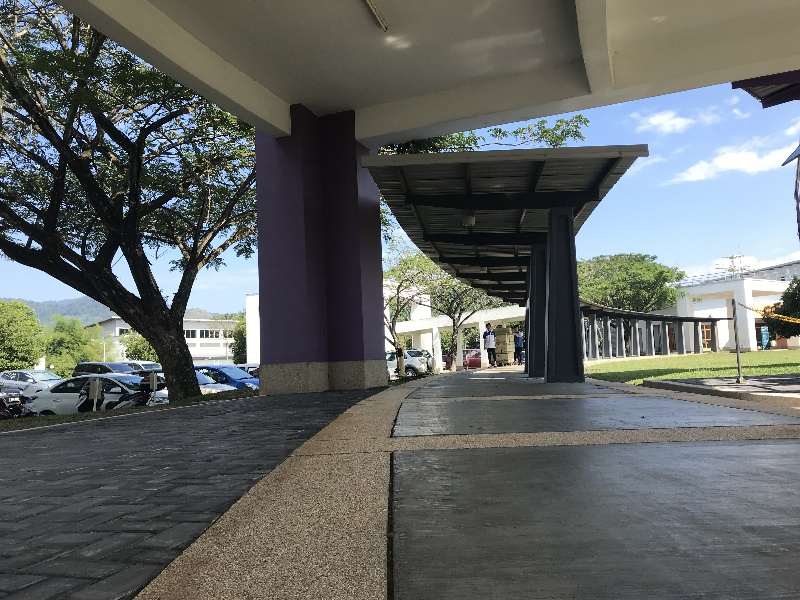Block D Pillar 6: (3, 5, 800, 557)
pillar: (241, 94, 394, 412), (530, 204, 602, 394)
